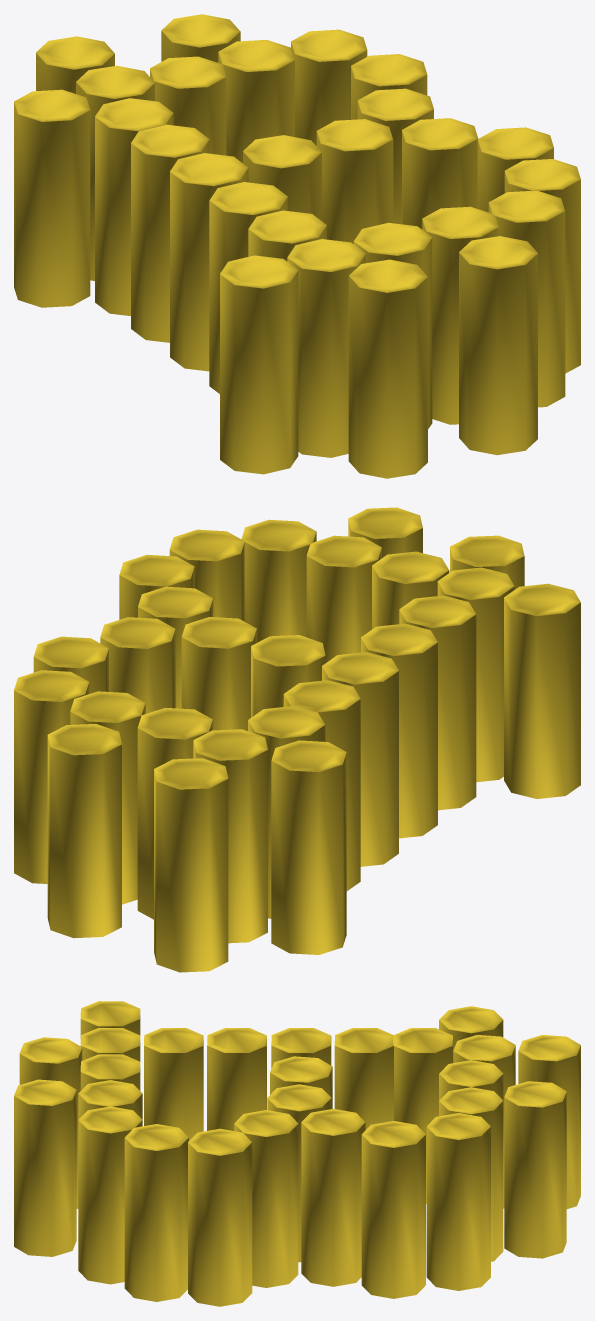
Rendered from bitcoin_boss.fbx.
3 views of the same model, one above another, from view 1: azimuth 30°, elevation 25°; view 2: azimuth 150°, elevation 25°; view 3: azimuth 270°, elevation 25° (orthographic). The views are drawn at different scales.
Visible parts, largest first — view 1: Cylinder.024, Cylinder.015, Cylinder.025, Cylinder, Cylinder.014, Cylinder.018, Cylinder.019, Cylinder.020, Cylinder.007, Cylinder.011, Cylinder.012, Cylinder.003 (+14 smaller); view 2: Cylinder.015, Cylinder, Cylinder.021, Cylinder.022, Cylinder.001, Cylinder.017, Cylinder.016, Cylinder.018, Cylinder.004, Cylinder.012, Cylinder.011, Cylinder.007 (+14 smaller); view 3: Cylinder.005, Cylinder.004, Cylinder.009, Cylinder.010, Cylinder.022, Cylinder.025, Cylinder.006, Cylinder.008, Cylinder.011, Cylinder.016, Cylinder.017, Cylinder.019 (+14 smaller).
Boxes of the visible parts, x1,y1,x2,y2 form: Cylinder.024: (348, 259, 427, 478); Cylinder.015: (220, 255, 298, 474); Cylinder.025: (459, 236, 537, 455); Cylinder: (14, 89, 90, 307); Cylinder.014: (287, 239, 365, 457); Cylinder.018: (170, 153, 248, 371); Cylinder.019: (131, 124, 209, 342); Cylinder.020: (95, 98, 173, 315); Cylinder.007: (316, 119, 393, 243); Cylinder.011: (488, 191, 565, 407); Cylinder.012: (422, 206, 498, 424); Cylinder.003: (218, 39, 294, 162); Cylinder.015: (504, 583, 580, 798); Cylinder: (271, 740, 346, 954); Cylinder.021: (154, 758, 228, 972); Cylinder.022: (47, 724, 121, 938); Cylinder.001: (193, 729, 267, 943); Cylinder.017: (361, 623, 437, 838); Cylinder.016: (399, 595, 476, 810); Cylinder.018: (322, 652, 398, 866); Cylinder.004: (14, 670, 89, 883); Cylinder.012: (306, 535, 381, 662); Cylinder.011: (241, 519, 316, 642); Cylinder.007: (181, 617, 256, 731); Cylinder.005: (361, 1121, 425, 1298); Cylinder.004: (426, 1113, 490, 1290); Cylinder.009: (188, 1128, 252, 1306); Cylinder.010: (124, 1124, 188, 1301); Cylinder.022: (504, 1081, 566, 1258); Cylinder.025: (14, 1079, 76, 1256); Cylinder.006: (301, 1108, 365, 1286); Cylinder.008: (234, 1110, 298, 1287); Cylinder.011: (78, 1106, 142, 1284); Cylinder.016: (144, 1028, 203, 1140); Cylinder.017: (207, 1028, 266, 1130); Cylinder.019: (334, 1028, 393, 1129).
Size of the model in its own units: 1693 by 2621 by 770.
